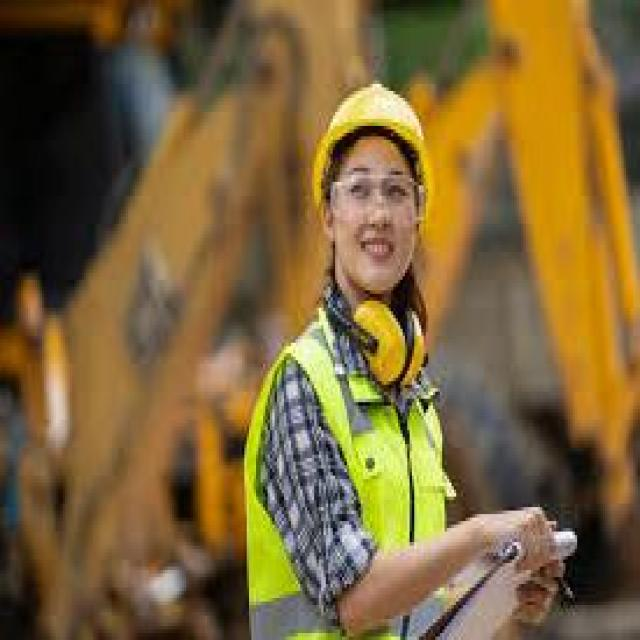Reflective-Jacket: (242, 304, 454, 636)
Safety-Helmet: (307, 77, 438, 203)
